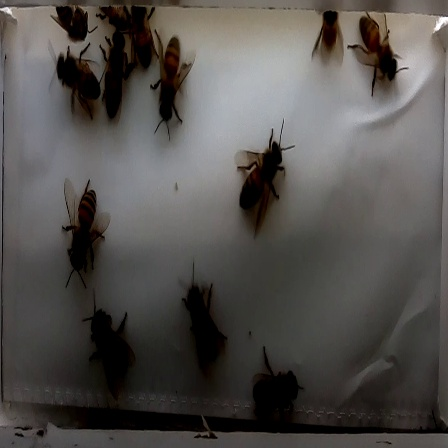bee: (223, 127, 301, 238), (46, 175, 110, 294), (163, 270, 233, 368), (68, 289, 139, 385), (348, 8, 415, 101), (147, 34, 195, 139), (241, 350, 307, 421), (42, 44, 103, 120), (95, 29, 136, 128), (125, 3, 163, 77)
